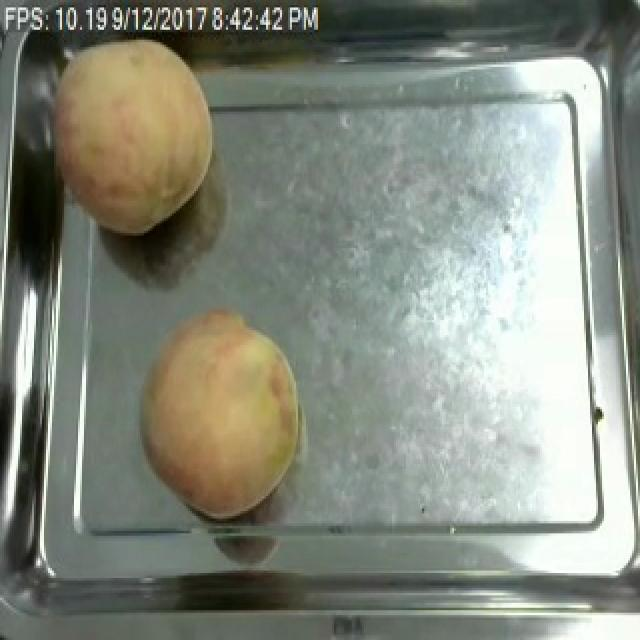Fruit: (40, 25, 224, 243), (136, 303, 310, 526)
